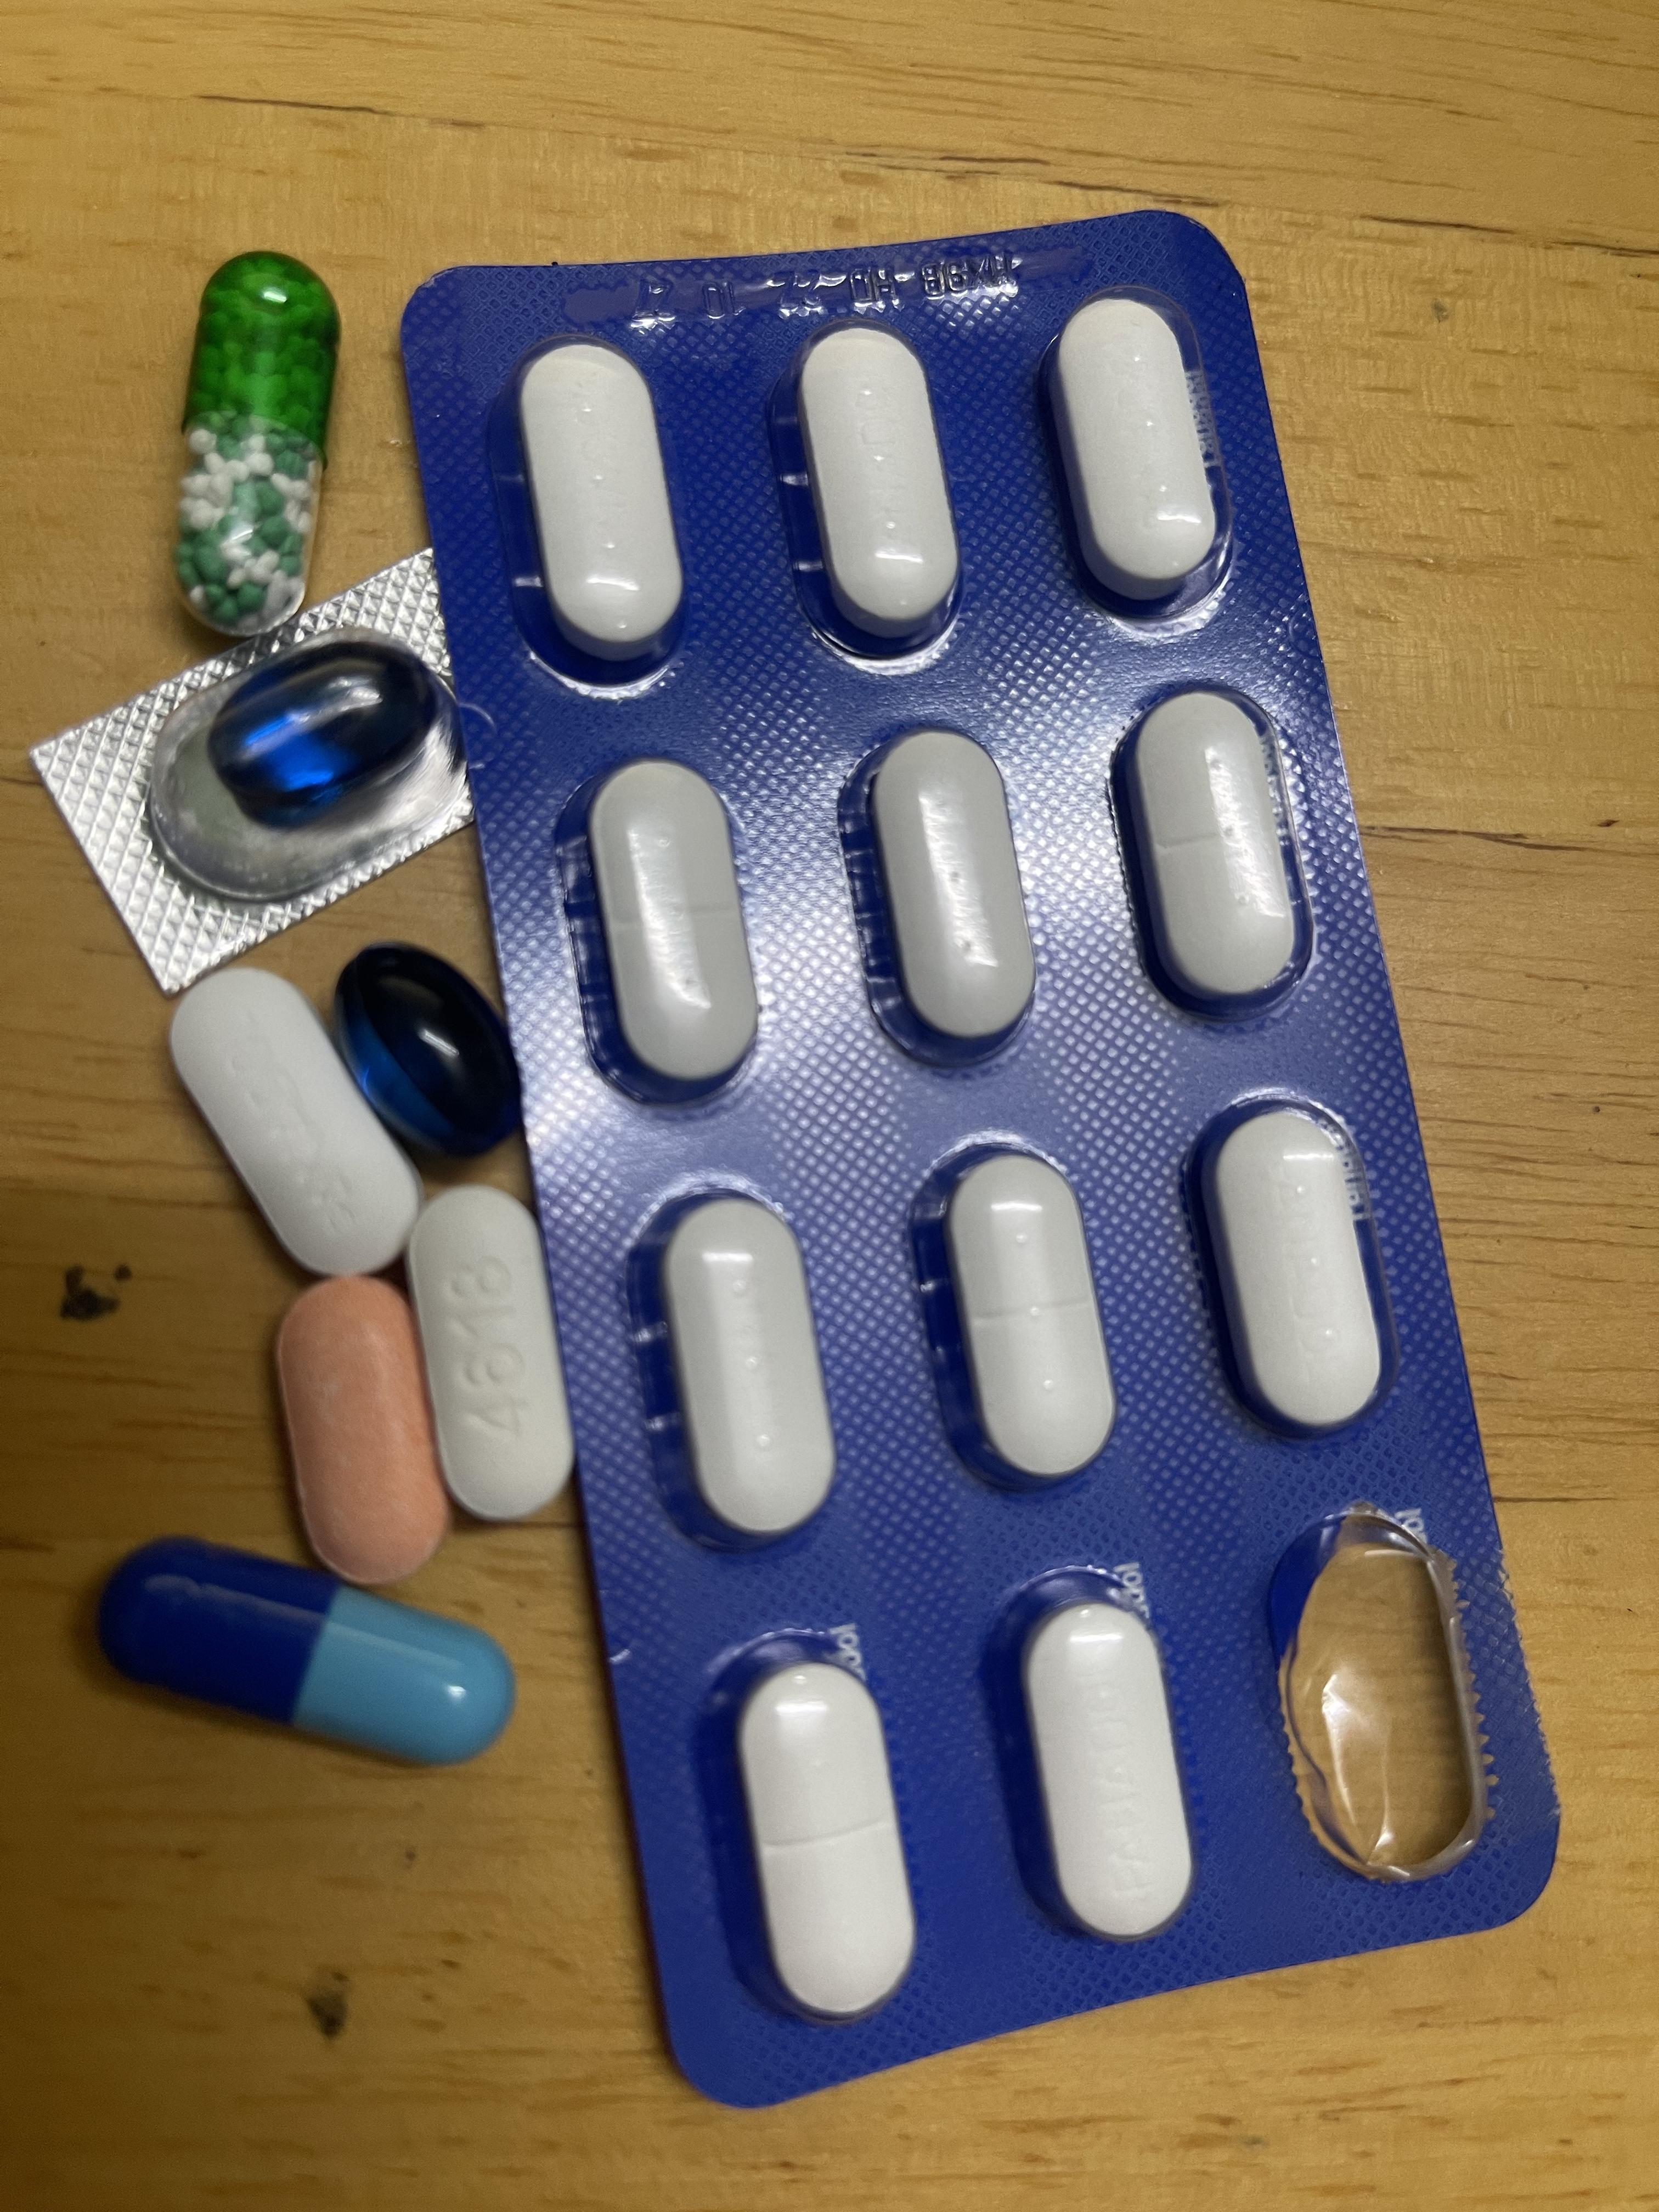Lincomyxin_500mg: (333, 942, 530, 1155), (206, 644, 436, 824)
Loratadine_10mg: (277, 1280, 437, 1562)
Paracetamol_350mg: (995, 1573, 1195, 1949), (167, 972, 415, 1273), (634, 1190, 836, 1547), (728, 1644, 918, 2022), (782, 320, 967, 658), (1202, 1111, 1385, 1437), (586, 759, 758, 1094), (943, 1157, 1115, 1484), (1047, 289, 1222, 601), (870, 732, 1035, 1059), (518, 340, 685, 658), (1131, 691, 1298, 1000)
Paracetamol_500mg: (413, 1207, 570, 1519)
Paracetamol_650mg: (174, 256, 338, 625)
pill: (119, 1541, 507, 1768)
